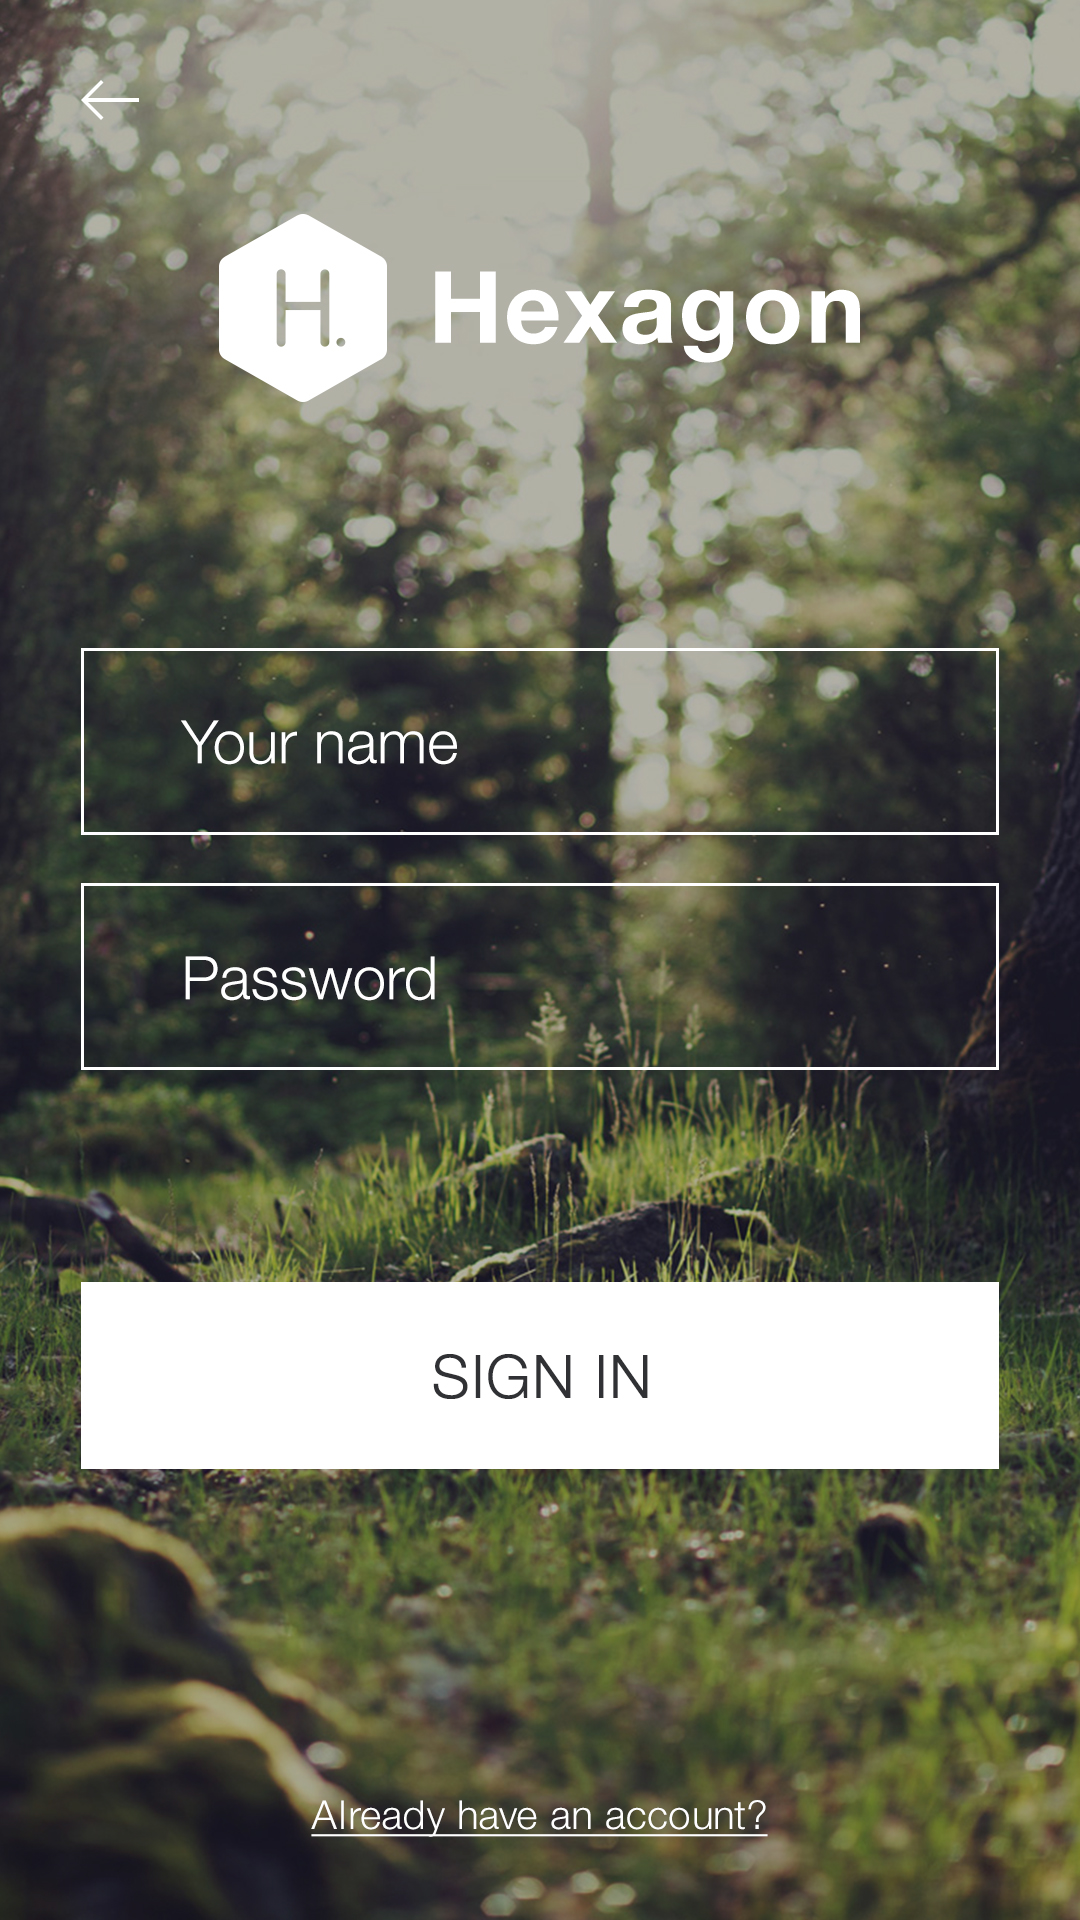BackgroundImage: (1, 1, 1080, 1920)
EditText: (80, 884, 1000, 1071), (82, 649, 1000, 836)
Icon: (80, 80, 141, 123)
Image: (219, 214, 388, 404)
Text: (435, 272, 861, 365), (311, 1799, 769, 1838), (182, 720, 458, 767), (185, 957, 436, 1002)
TextButton: (80, 1282, 1000, 1470)
